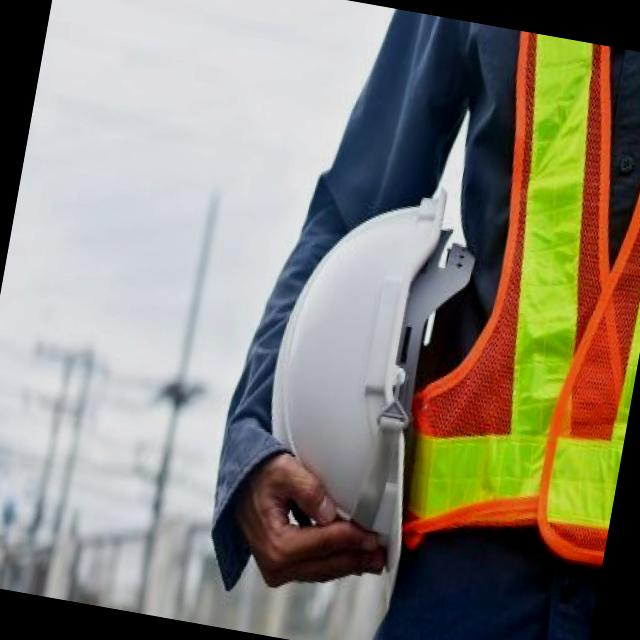vest: (381, 22, 640, 569)
